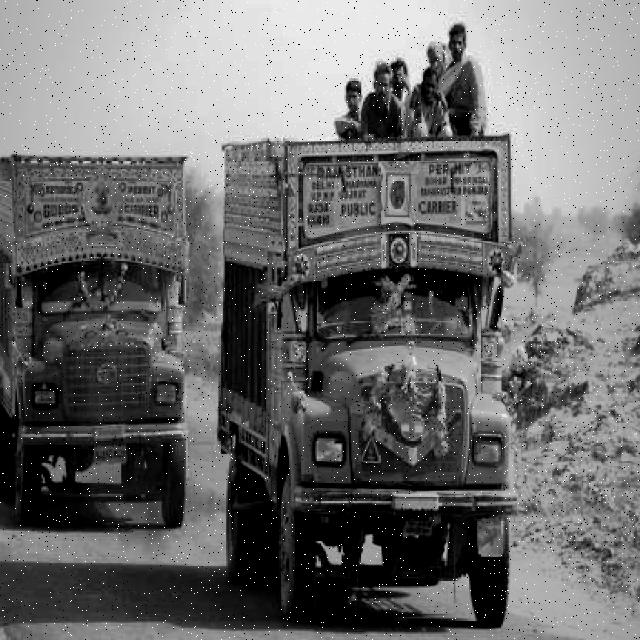HCV: (226, 114, 501, 586), (23, 129, 194, 550)
